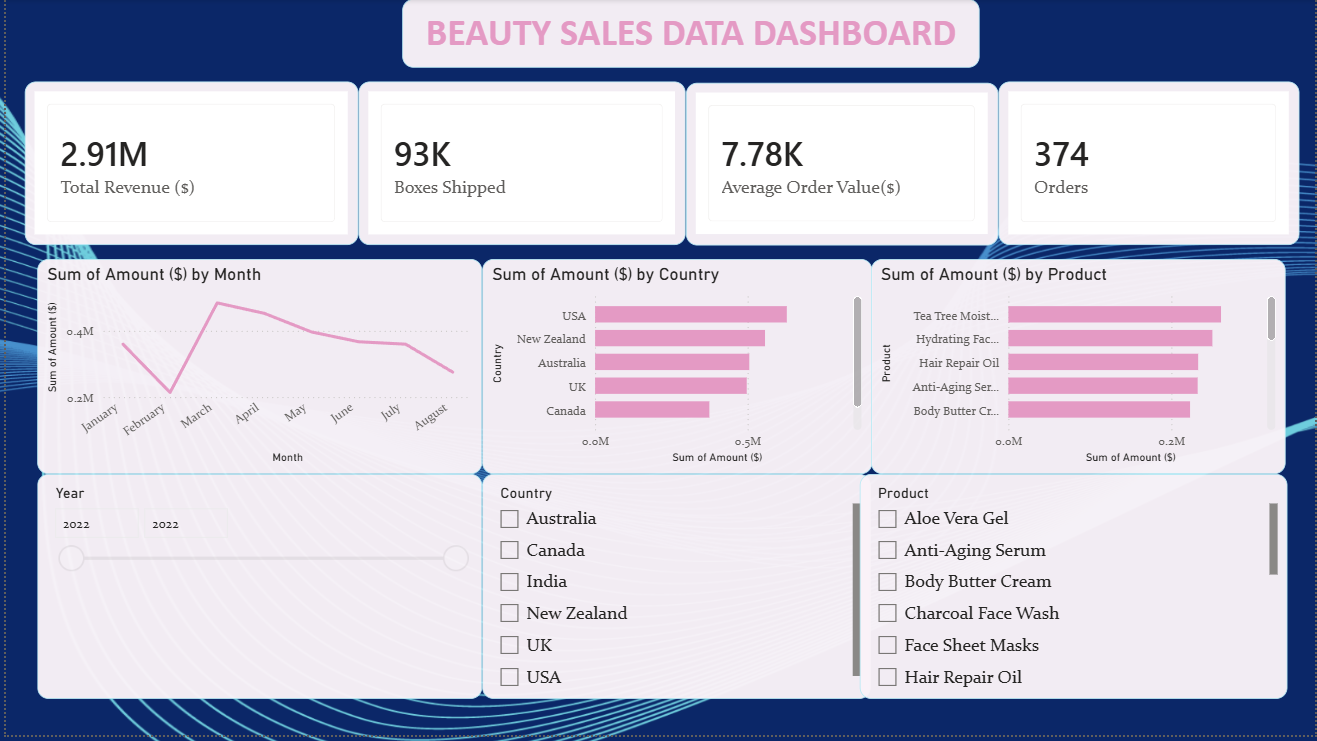

This screenshot's page, from the dashboard's own definition file:
{"tool":"powerbi","page":{"name":"Page 1","canvas":[1280,720],"ordinal":0},"visuals":[{"type":"cardVisual","fields":{"Data":["Sum(cosmetics_sales_cleaned.Amount ($))"]},"box":[18.3,80.7,326.5,160.2],"z":0},{"type":"cardVisual","fields":{"Data":["Sum(cosmetics_sales_cleaned.Boxes Shipped)"]},"box":[344.8,80.7,320.4,160.2],"z":1000},{"type":"cardVisual","fields":{"Data":["Avg(cosmetics_sales_cleaned.Amount ($))"]},"box":[665.2,81.9,305.7,159],"z":2000},{"type":"cardVisual","fields":{"Data":["CountNonNull(cosmetics_sales_cleaned.Boxes Shipped)"]},"box":[970.9,80.7,294.7,160.2],"z":3000},{"type":"lineChart","fields":{"Category":["cosmetics_sales_cleaned.Date.Variation.Date Hierarchy.Month"],"Y":["Sum(cosmetics_sales_cleaned.Amount ($))"]},"box":[30.6,254.3,435.3,210.3],"z":4000},{"type":"clusteredBarChart","fields":{"Category":["cosmetics_sales_cleaned.Country"],"Y":["Sum(cosmetics_sales_cleaned.Amount ($))"]},"box":[465.9,254.3,381.5,210.3],"z":5000},{"type":"clusteredBarChart","fields":{"Category":["cosmetics_sales_cleaned.Product"],"Y":["Sum(cosmetics_sales_cleaned.Amount ($))"]},"box":[846.2,254.3,406,210.3],"z":6000},{"type":"slicer","fields":{"Values":["cosmetics_sales_cleaned.Year"]},"box":[30.6,464.7,435.3,220.1],"z":7000},{"type":"slicer","fields":{"Values":["cosmetics_sales_cleaned.Country"]},"box":[465.9,464.7,380.3,220.1],"z":8000},{"type":"slicer","fields":{"Values":["cosmetics_sales_cleaned.Product"]},"box":[835.2,464.7,418.2,220.1],"z":9000},{"type":"textbox","box":[387.6,0,564.9,67.3],"z":10000}]}

Visuals, with their boxes in screenshot pixels (x1, y1, x2, y2), scaled from the page's 1280x720 canvas onto the 1317x741 screenshot:
cardVisual - Sum(cosmetics_sales_cleaned.Amount ($)): <region>19, 83, 355, 248</region>
cardVisual - Sum(cosmetics_sales_cleaned.Boxes Shipped): <region>355, 83, 684, 248</region>
cardVisual - Avg(cosmetics_sales_cleaned.Amount ($)): <region>684, 84, 999, 248</region>
cardVisual - CountNonNull(cosmetics_sales_cleaned.Boxes Shipped): <region>999, 83, 1302, 248</region>
lineChart - cosmetics_sales_cleaned.Date.Variation.Date Hierarchy.Month x Sum(cosmetics_sales_cleaned.Amount ($)): <region>31, 262, 479, 478</region>
clusteredBarChart - cosmetics_sales_cleaned.Country x Sum(cosmetics_sales_cleaned.Amount ($)): <region>479, 262, 872, 478</region>
clusteredBarChart - cosmetics_sales_cleaned.Product x Sum(cosmetics_sales_cleaned.Amount ($)): <region>871, 262, 1288, 478</region>
slicer - cosmetics_sales_cleaned.Year: <region>31, 478, 479, 705</region>
slicer - cosmetics_sales_cleaned.Country: <region>479, 478, 871, 705</region>
slicer - cosmetics_sales_cleaned.Product: <region>859, 478, 1290, 705</region>
textbox: <region>399, 0, 980, 69</region>
